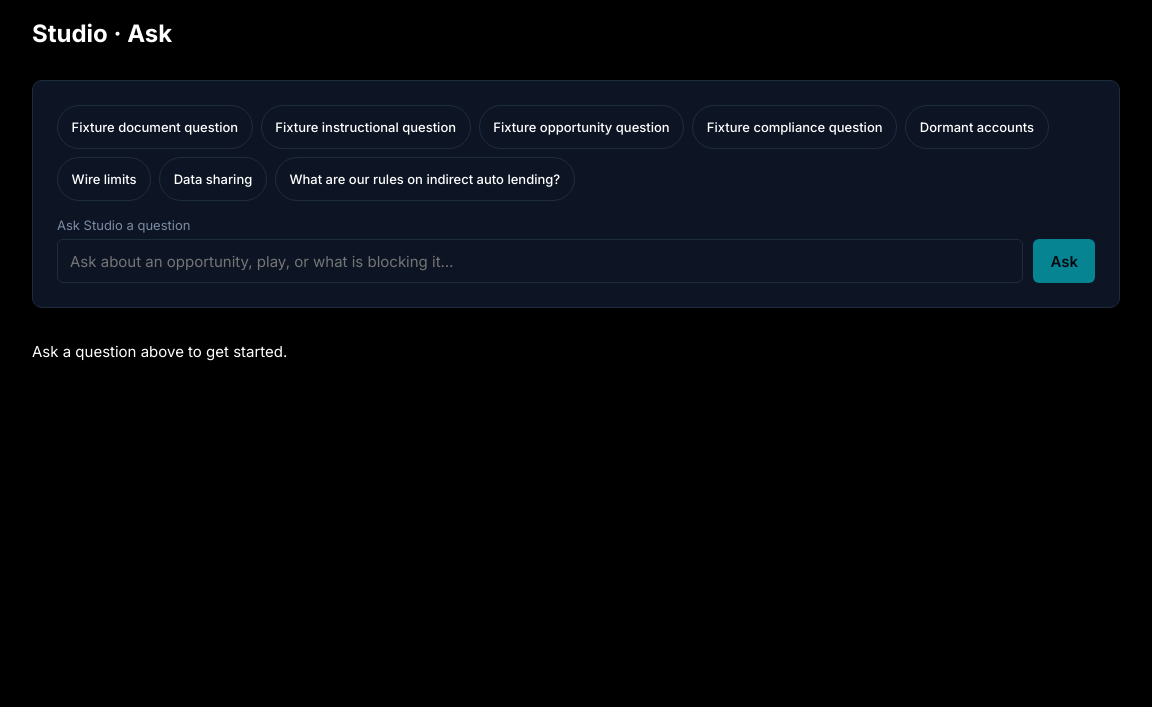
Scenario: AC-A20-5 — layout-per-type (four fixture entries, one per responseType) › opportunity-status renders a StatCard + DrawerContent(kind: play) whose field values match the live OPPS/DETAIL record for the fixture opportunityId
In the field labelled "Ask Studio a question": (540, 261) [57,239,1023,283], type "Fixture opportunity question"
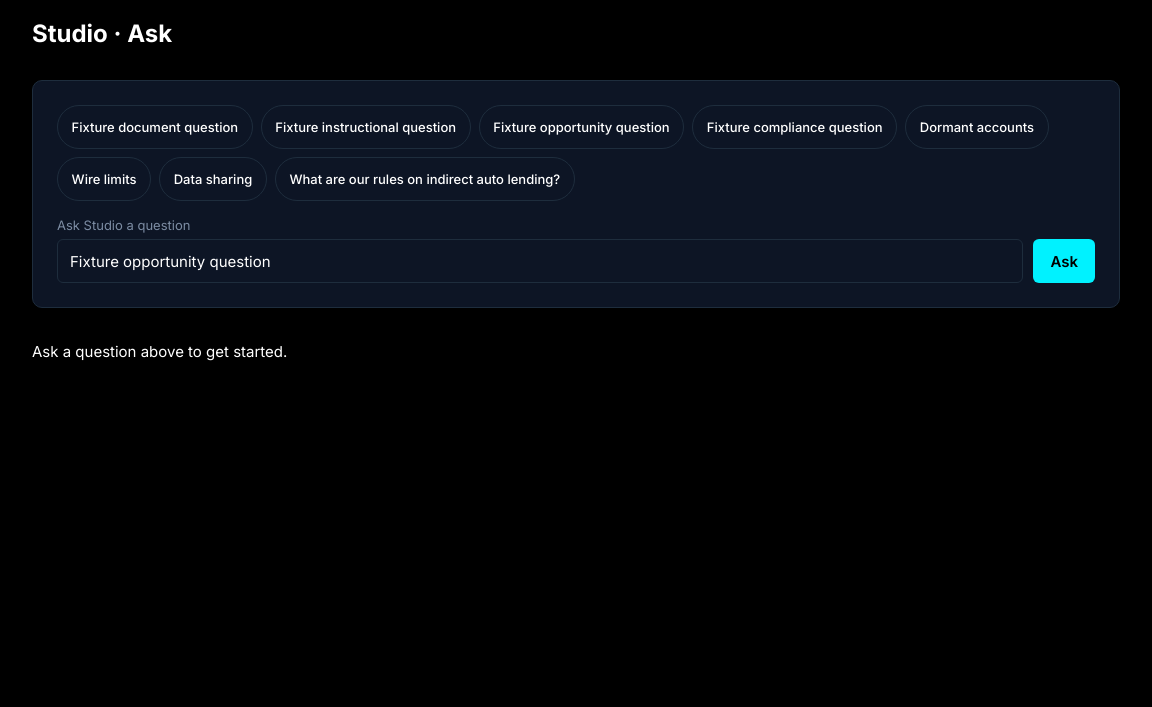
Click the button "Ask": click(1064, 261) [1033,239,1095,283]
Wait 800 ms
(page scrolled)
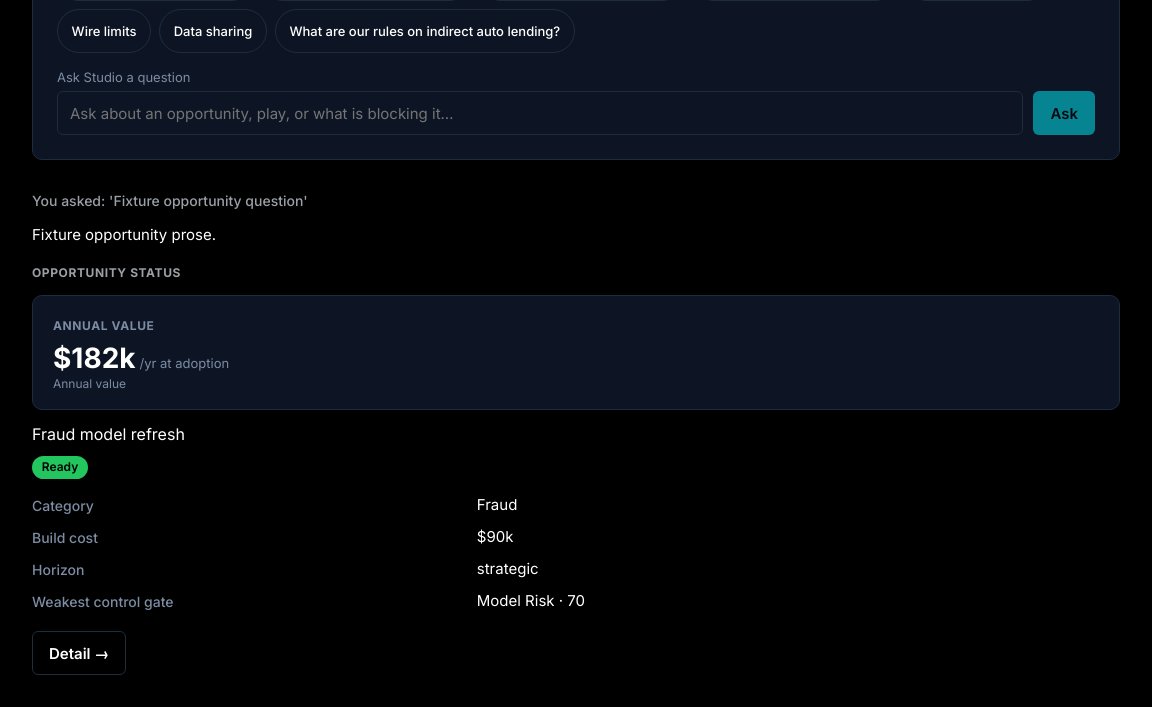
Check: the 1st text "Annual value" is shown, box [53,318,154,333]
Check: the element that starts with "Ready" is shown, box [32,456,585,675]
Check: the text "Fraud" is shown, box [477,495,517,514]
